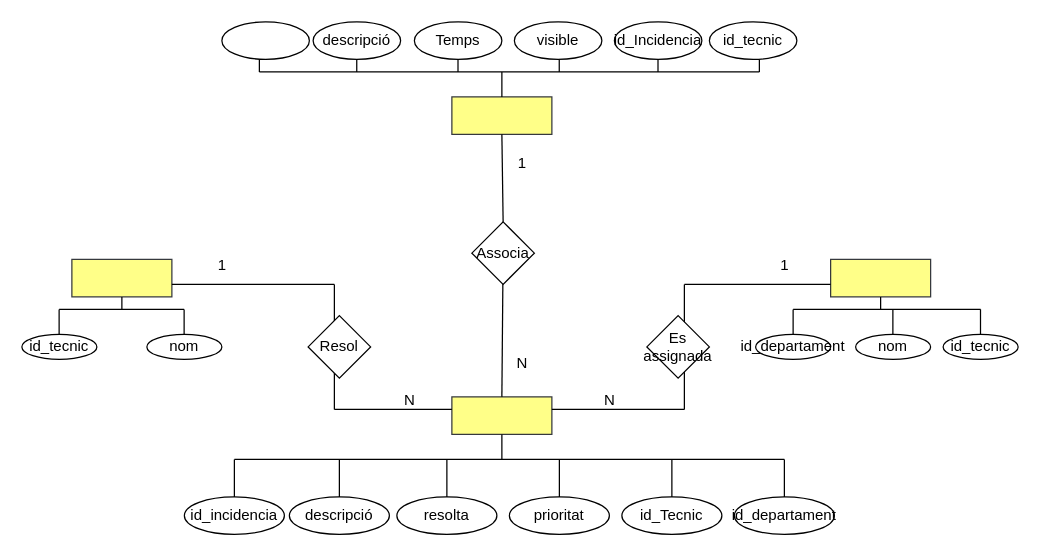
This 1040x556 diagram has some shape labels left out. The centre of each missing label's shape, as x and y in pixels:
Actuació: pixel 501 115
Departament: pixel 880 277
id_actuació: pixel 265 40
Incidència: pixel 501 415
Tècnic: pixel 121 277
